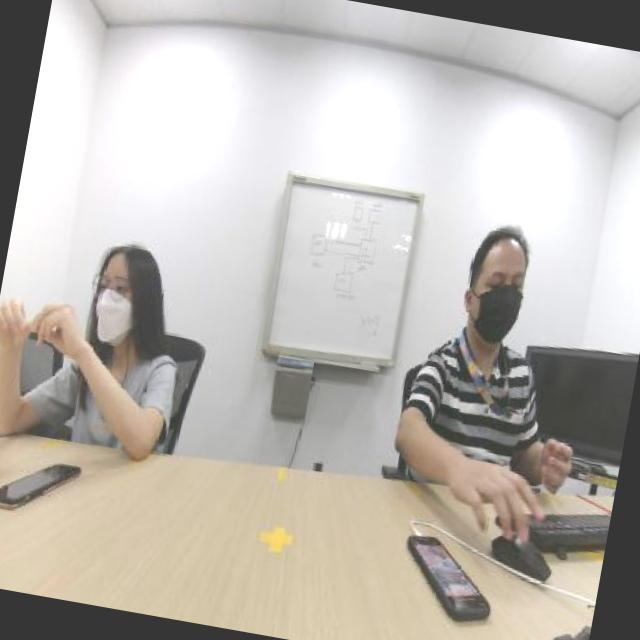Person: (0, 188, 219, 451), (389, 184, 579, 466)
